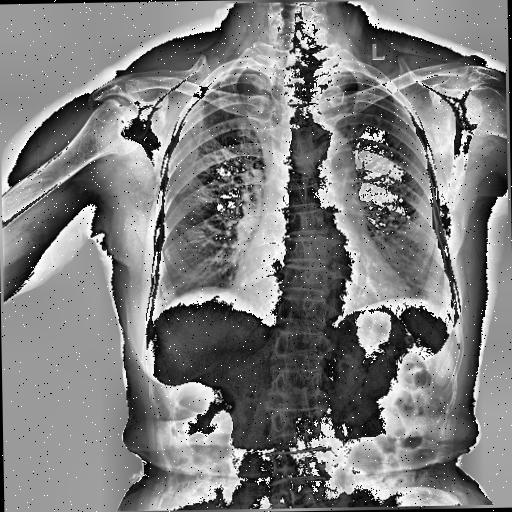0- Aortic enlargement: (297, 122, 358, 206), (290, 123, 356, 186), (302, 120, 355, 176)
11- Pleural thickening: (202, 72, 230, 91), (206, 70, 230, 91), (207, 70, 232, 84)
3- Cardiomegaly: (228, 256, 414, 310)
9- Other lesion: (258, 60, 294, 176)
